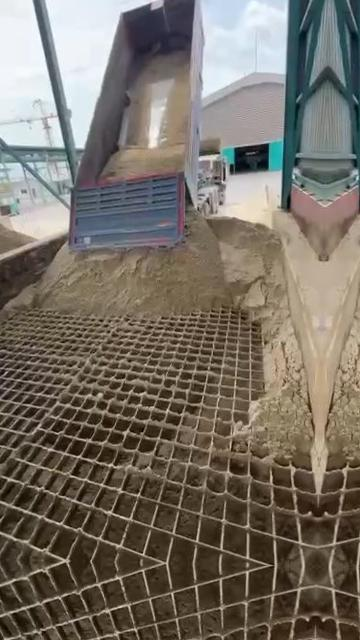sand: (28, 210, 312, 455), (121, 52, 180, 147), (140, 48, 188, 143), (103, 144, 184, 178), (1, 284, 36, 315), (0, 222, 33, 254)
